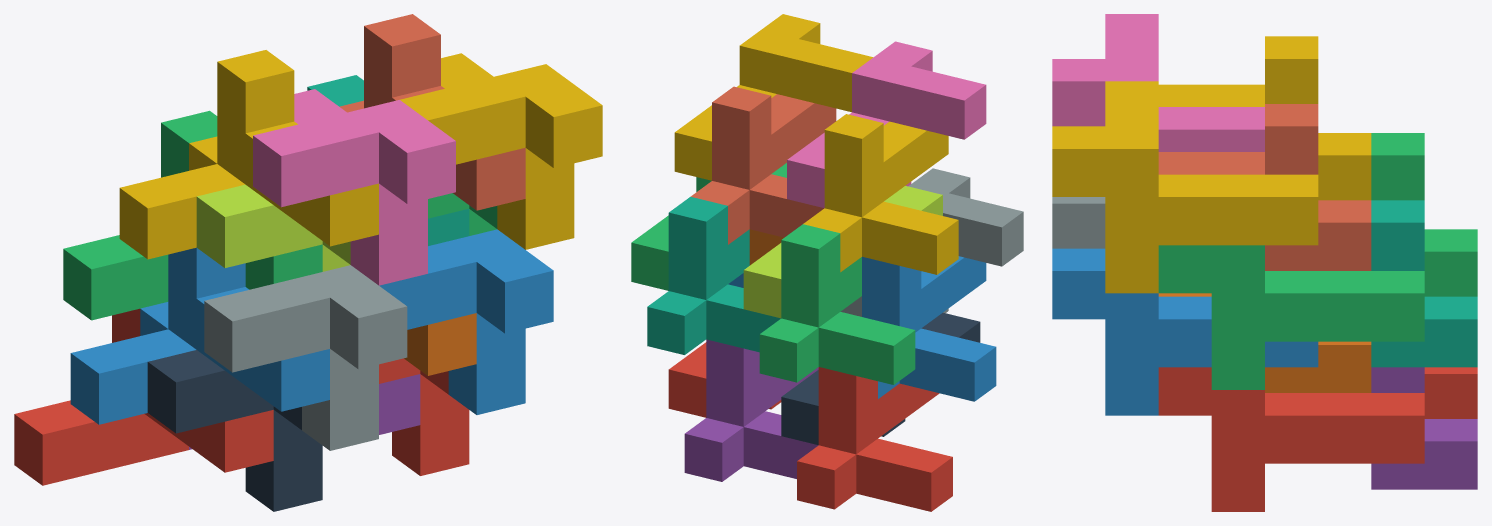
Rendered from tiling.obj.
3 views of the same model, side by side, from view 1: azimuth 30°, elevation 25°; view 2: azimuth 150°, elevation 25°; view 3: azimuth 270°, elevation 25° (orthographic). The views are drawn at different scales.
Parts seen in each view (by area): view 1: copy_2_domain_4, copy_2_domain_2, copy_2_domain_8, copy_1_domain_4, copy_2_domain_6, copy_1_domain_2, copy_1_domain_1, copy_2_domain_1, copy_1_domain_3, copy_1_domain_8, copy_2_domain_3, copy_2_domain_5 (+4 smaller); view 2: copy_1_domain_4, copy_1_domain_3, copy_1_domain_1, copy_1_domain_8, copy_1_domain_7, copy_1_domain_2, copy_1_domain_5, copy_2_domain_4, copy_2_domain_8, copy_2_domain_2, copy_2_domain_1, copy_2_domain_3 (+3 smaller); view 3: copy_2_domain_8, copy_2_domain_7, copy_2_domain_5, copy_2_domain_6, copy_2_domain_4, copy_1_domain_8, copy_1_domain_4, copy_1_domain_7, copy_1_domain_3, copy_1_domain_5, copy_1_domain_6, copy_1_domain_1 (+1 smaller).
Part boxes in pixels (box(x1,y1,x2,y2)): copy_2_domain_4: box(253, 89, 455, 285); copy_2_domain_2: box(204, 265, 407, 450); copy_2_domain_8: box(400, 53, 602, 249); copy_1_domain_4: box(119, 50, 378, 259); copy_2_domain_6: box(379, 229, 553, 414); copy_1_domain_2: box(70, 247, 329, 424); copy_1_domain_1: box(14, 308, 273, 485); copy_2_domain_1: box(147, 350, 322, 511); copy_1_domain_3: box(63, 110, 322, 320); copy_1_domain_8: box(339, 14, 525, 210); copy_2_domain_3: box(196, 184, 350, 271); copy_2_domain_5: box(379, 358, 469, 475); copy_1_domain_4: box(803, 114, 958, 274); copy_1_domain_3: box(759, 224, 915, 384); copy_1_domain_1: box(797, 367, 952, 511); copy_1_domain_8: box(691, 86, 836, 244); copy_1_domain_7: box(647, 196, 780, 354); copy_1_domain_2: box(862, 256, 996, 401); copy_1_domain_5: box(684, 339, 818, 481); copy_2_domain_4: box(787, 41, 986, 208); copy_2_domain_8: box(674, 14, 873, 180); copy_2_domain_2: box(840, 168, 1023, 316); copy_2_domain_1: box(781, 312, 980, 444); copy_2_domain_3: box(743, 186, 942, 318); copy_2_domain_8: box(1052, 81, 1318, 293); copy_2_domain_7: box(1158, 245, 1424, 389); copy_2_domain_5: box(1158, 367, 1424, 511); copy_2_domain_6: box(1052, 248, 1318, 415); copy_2_domain_4: box(1052, 14, 1264, 151); copy_1_domain_8: box(1158, 104, 1371, 270); copy_1_domain_4: box(1158, 36, 1371, 200); copy_1_domain_7: box(1371, 200, 1477, 367); copy_1_domain_3: box(1371, 133, 1477, 296); copy_1_domain_5: box(1371, 367, 1477, 489); copy_1_domain_6: box(1158, 293, 1371, 392); copy_1_domain_1: box(1424, 367, 1477, 418).
Bounding box in the file's own units: 8 × 8 × 8.
